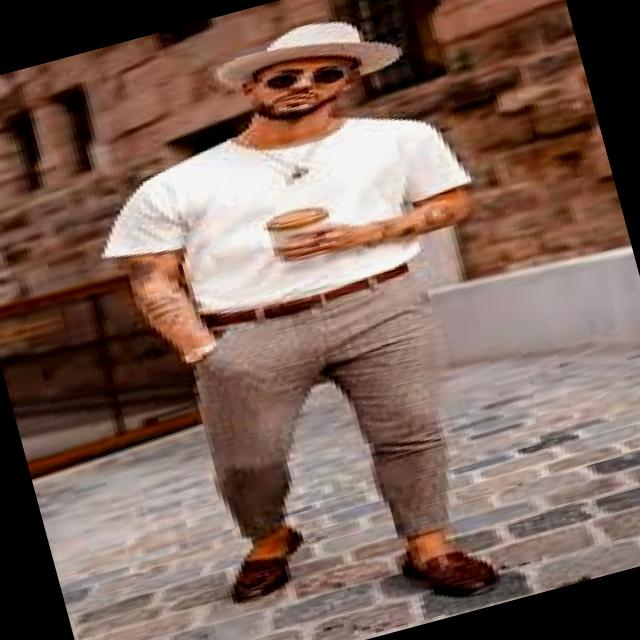foot-wear: (231, 529, 303, 602), (400, 551, 498, 598)
hat: (216, 22, 402, 87)
lower-wear: (193, 272, 449, 539)
top-wear: (101, 118, 470, 314)
